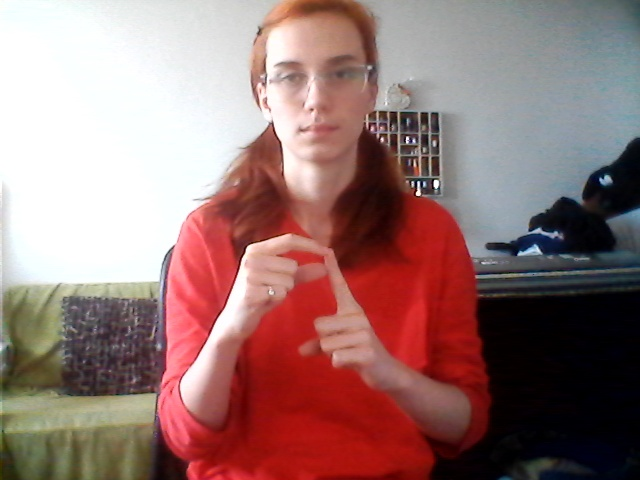p: (223, 228, 388, 399)
